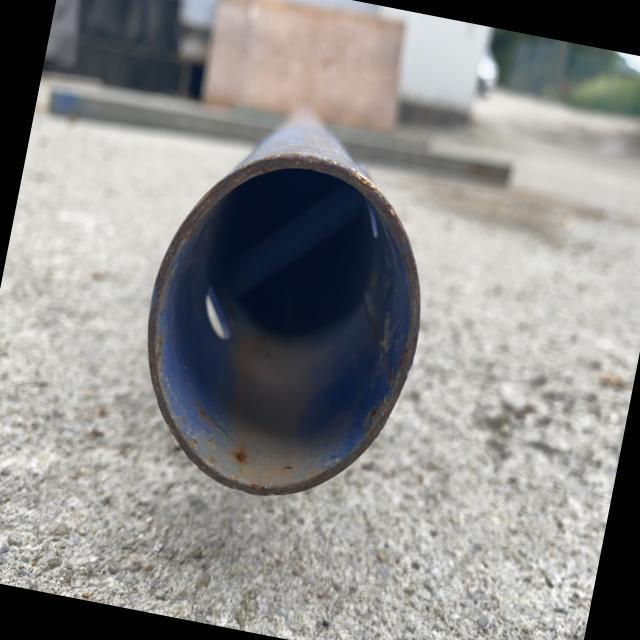pipe: (145, 155, 422, 499)
